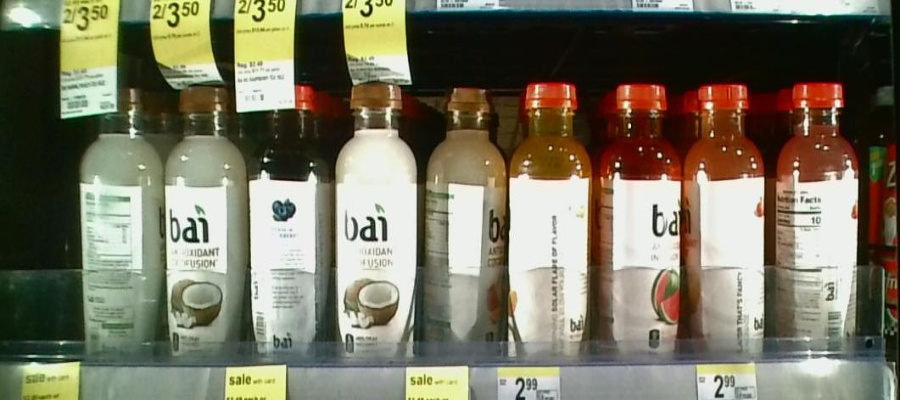bottle: (774, 69, 865, 350), (333, 69, 422, 352), (684, 74, 772, 359), (598, 78, 680, 373), (78, 79, 165, 355), (424, 72, 506, 362), (509, 78, 592, 361), (251, 62, 329, 359), (165, 86, 247, 359)
